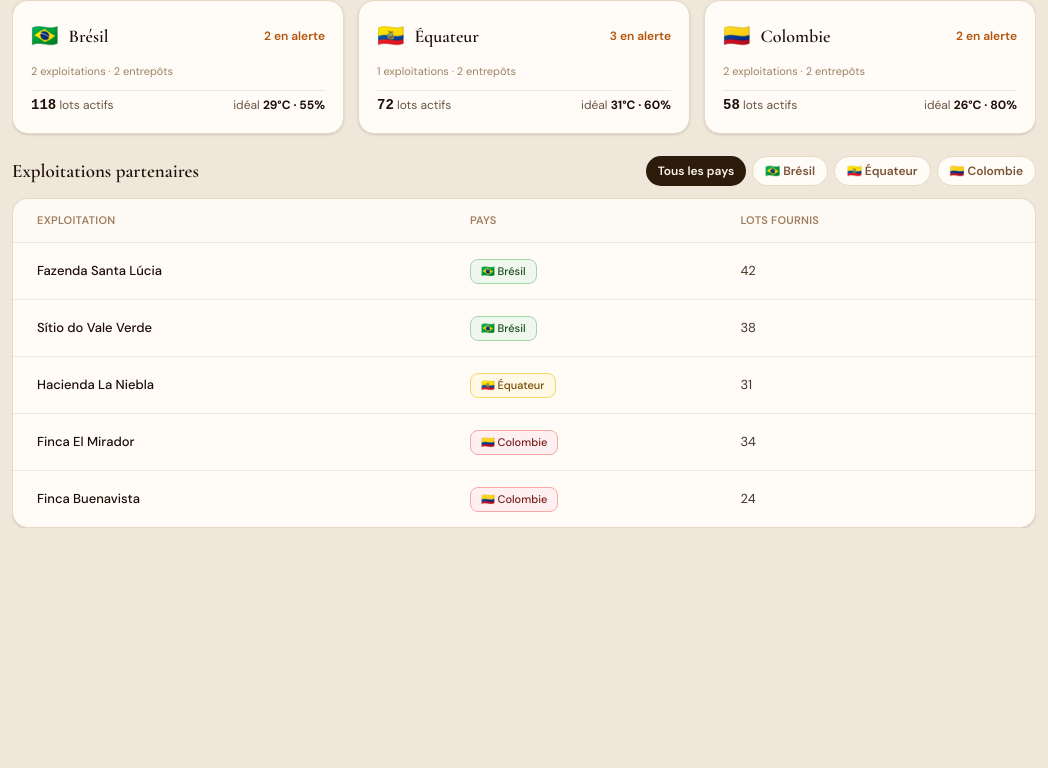
Test case: ExploitationsView › filters the exploitations list by country
Click the button "🇪🇨 Équateur".
click(882, 171)  # box left=834, top=156, right=931, bottom=186
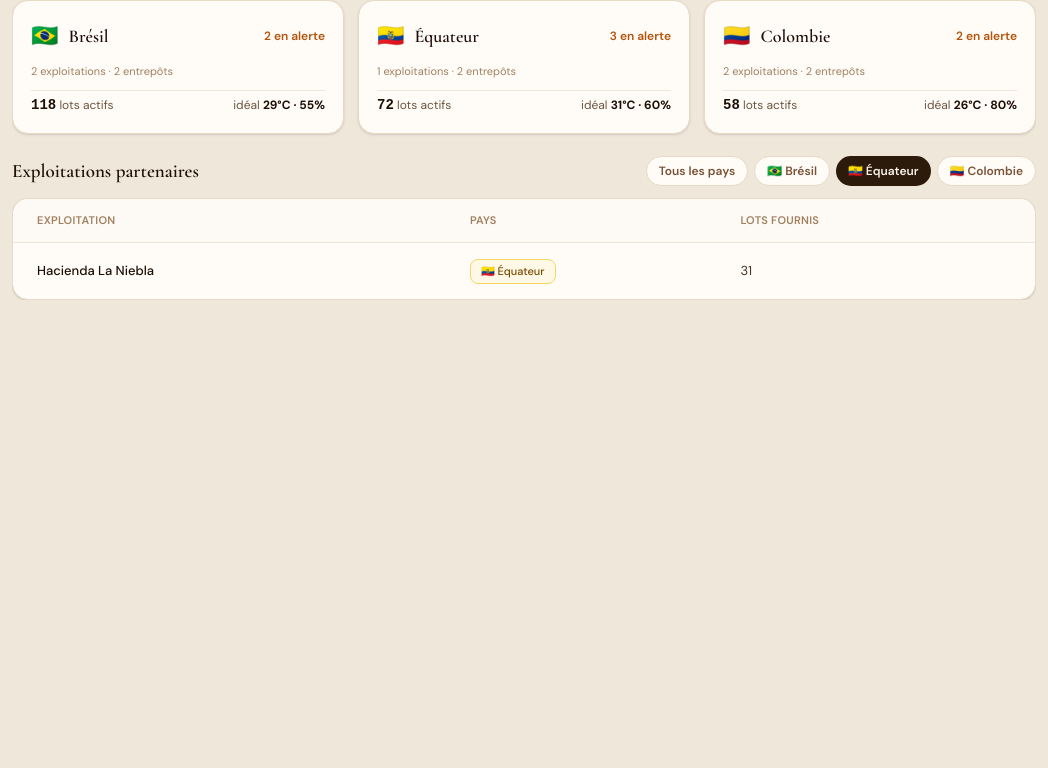
Expected: the text "Hacienda La Niebla" is shown, left=37, top=262, right=154, bottom=279
Result: the text "Fazenda Santa Lúcia" is gone
Result: the text "Finca El Mirador" is gone
